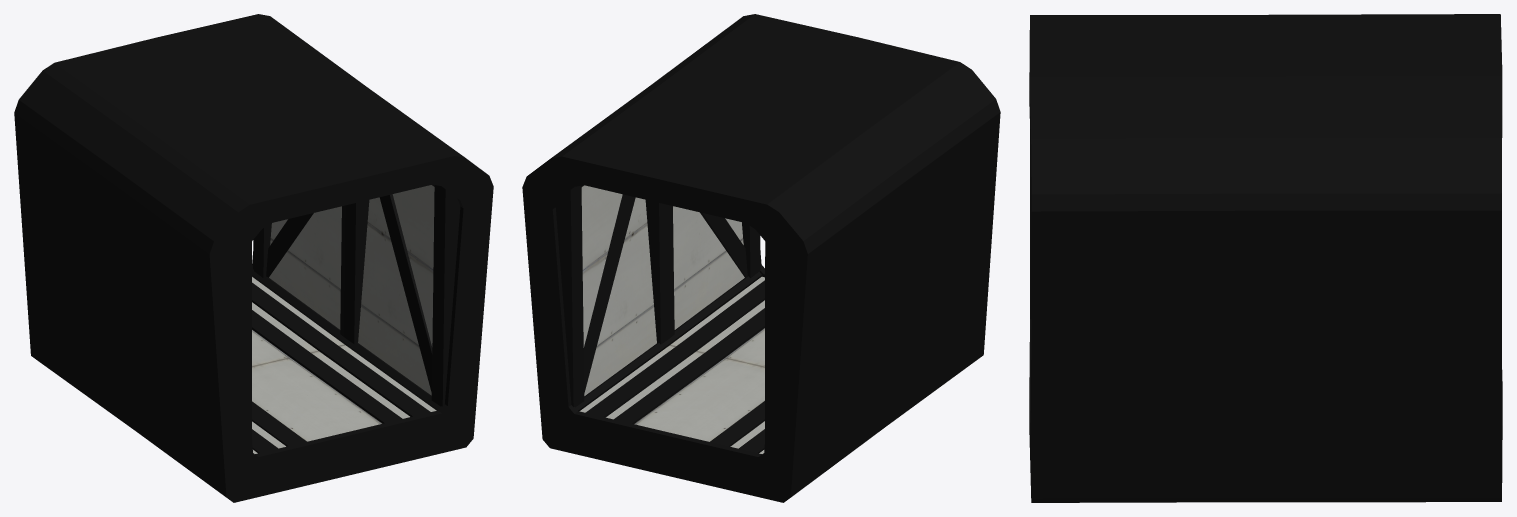
File: Tunnel_vent_01.FBX
3 renders of one model, left to right at view 1: azimuth 30°, elevation 25°; view 2: azimuth 150°, elevation 25°; view 3: azimuth 270°, elevation 25°, orthographic. The views are drawn at different scales.
Parts seen in each view (by area): view 1: Tunnel01; view 2: Tunnel01; view 3: Tunnel01.
Boxes of the visible parts, x1,y1,x2,y2 form: Tunnel01: (14,14,493,502); Tunnel01: (522,14,1000,502); Tunnel01: (1029,14,1502,502).
Size of the model in its own units: 285 by 282 by 336.
